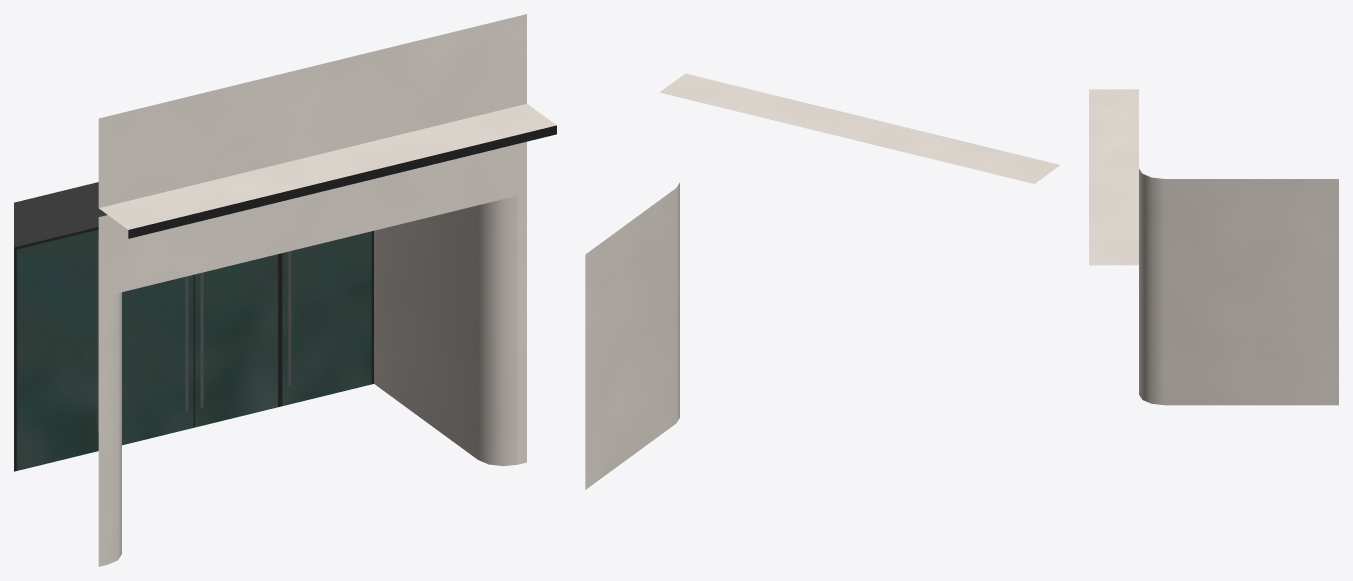
Rendered from door.gltf.
3 views of the same model, side by side, from view 1: azimuth 30°, elevation 25°; view 2: azimuth 150°, elevation 25°; view 3: azimuth 270°, elevation 25° (orthographic). The views are drawn at different scales.
Parts seen in each view (by area): view 1: door; view 2: door; view 3: door.
Part boxes in pixels (left/top/right/bottom): door: left=14, top=14, right=556, bottom=566; door: left=585, top=73, right=1059, bottom=489; door: left=1089, top=89, right=1338, bottom=405.
Bounding box in the file's own units: 5 × 5 × 3.
Materials: 3 (2 with a texture image).
